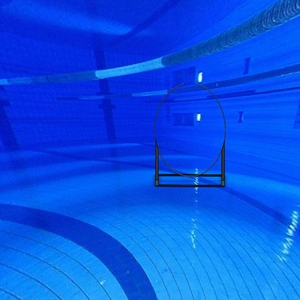circle: (153, 82, 228, 189)
